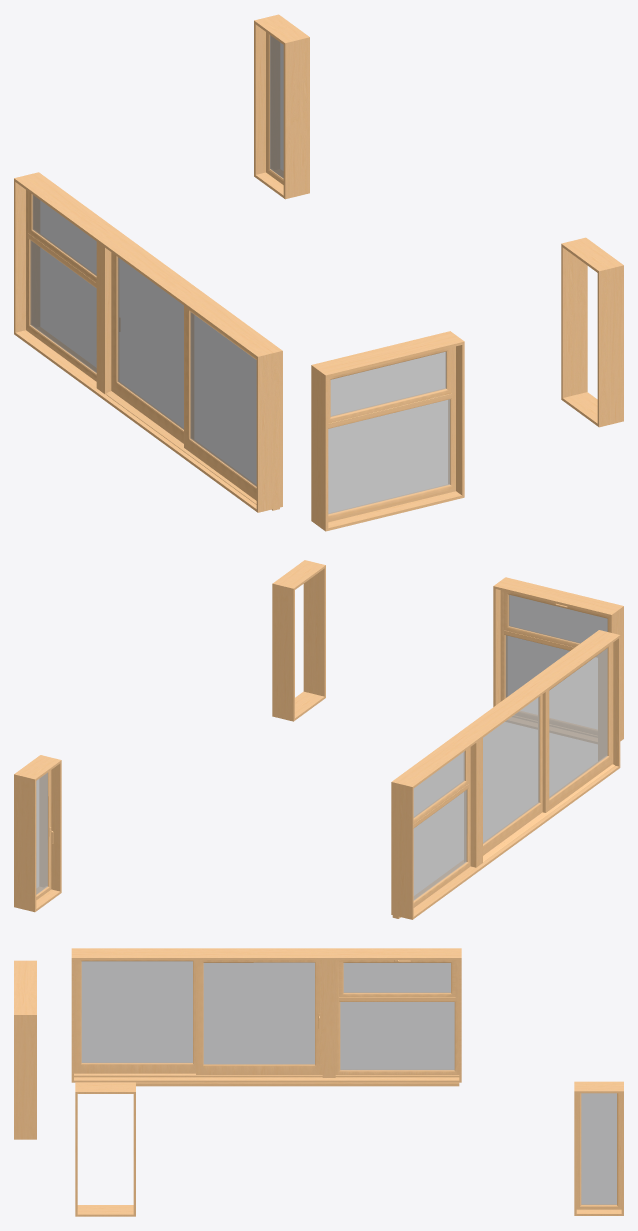
Rendered from Wood_Window.glb.
3 views of the same model, one above another, from view 1: azimuth 30°, elevation 25°; view 2: azimuth 150°, elevation 25°; view 3: azimuth 270°, elevation 25° (orthographic). The views are drawn at different scales.
Visible parts, largest first — view 1: Wood_Window_Light_Base; view 2: Wood_Window_Light_Base; view 3: Wood_Window_Light_Base.
Boxes of the visible parts, x1,y1,x2,y2 form: Wood_Window_Light_Base: (14, 14, 623, 531); Wood_Window_Light_Base: (14, 560, 623, 919); Wood_Window_Light_Base: (14, 948, 623, 1216).
Size of the model in its own units: 2.19 by 0.9101 by 3.92.
2 materials, 1 textured.
